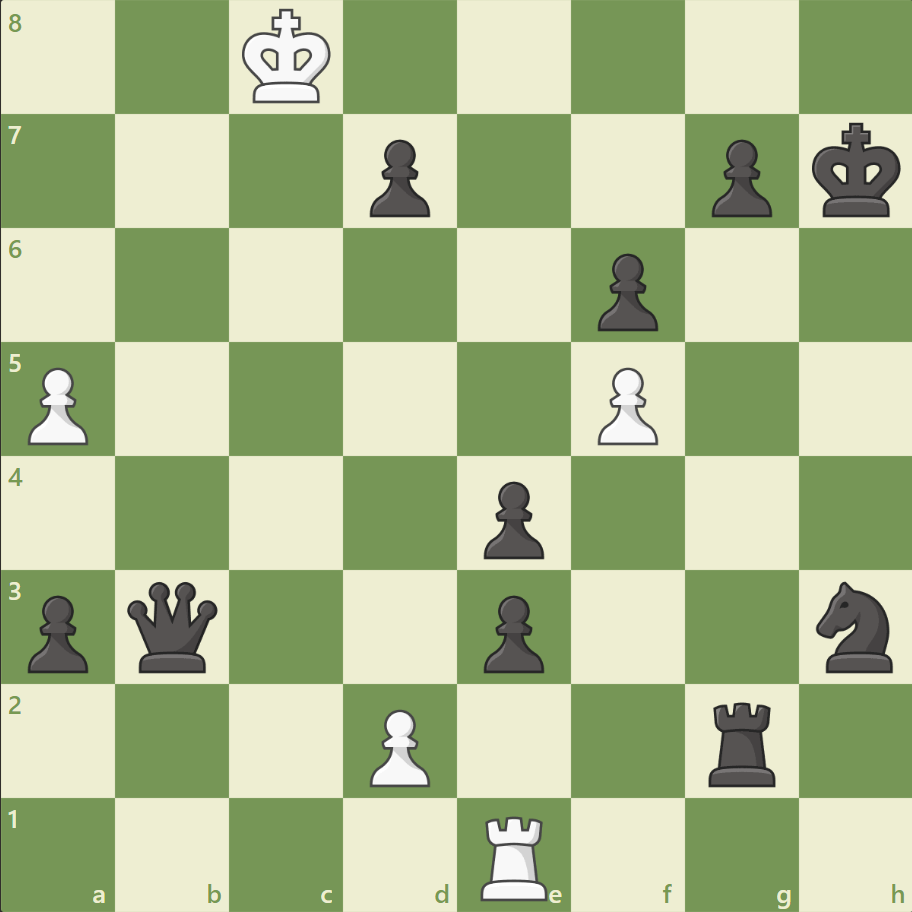K: (238, 4, 338, 112)
P: (20, 359, 95, 450), (588, 359, 662, 450), (361, 700, 435, 791)
R: (473, 806, 556, 904)
k: (806, 117, 906, 225)
n: (806, 575, 903, 677)
p: (701, 132, 776, 223), (474, 473, 549, 564), (20, 586, 95, 677), (474, 586, 549, 677), (361, 132, 435, 223), (588, 246, 662, 337)
q: (124, 576, 223, 676)
r: (700, 693, 783, 790)
